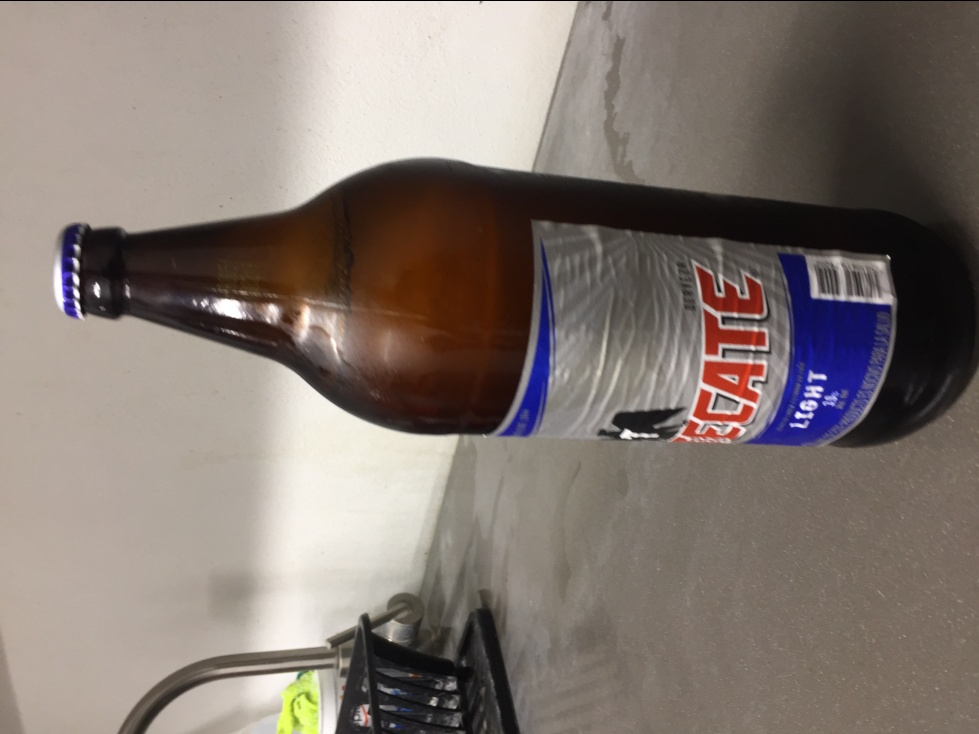tecateC: (53, 156, 978, 453)
